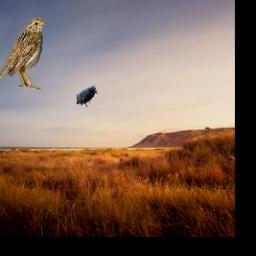Crow: (77, 85, 98, 107)
Sparrow: (0, 17, 46, 94)
